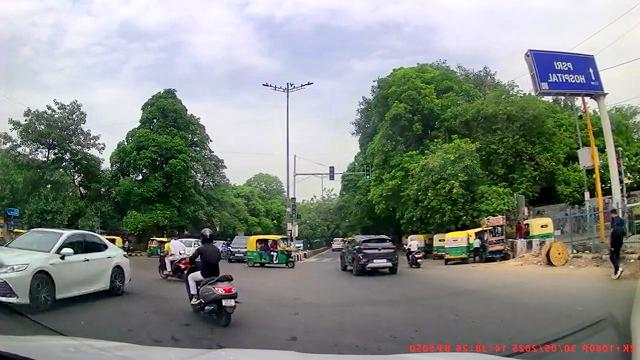motorcycle_with_helmet: (181, 227, 239, 327)
motorcycle_without_helmet: (159, 236, 189, 280)
